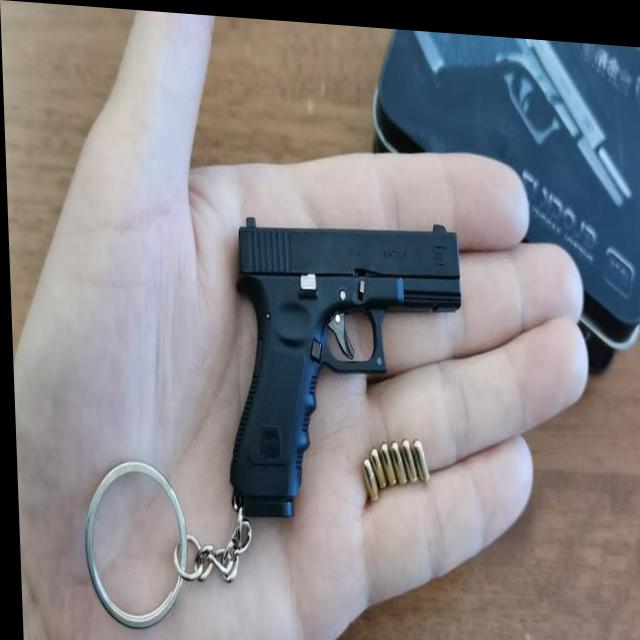handgun: (202, 194, 468, 557)
